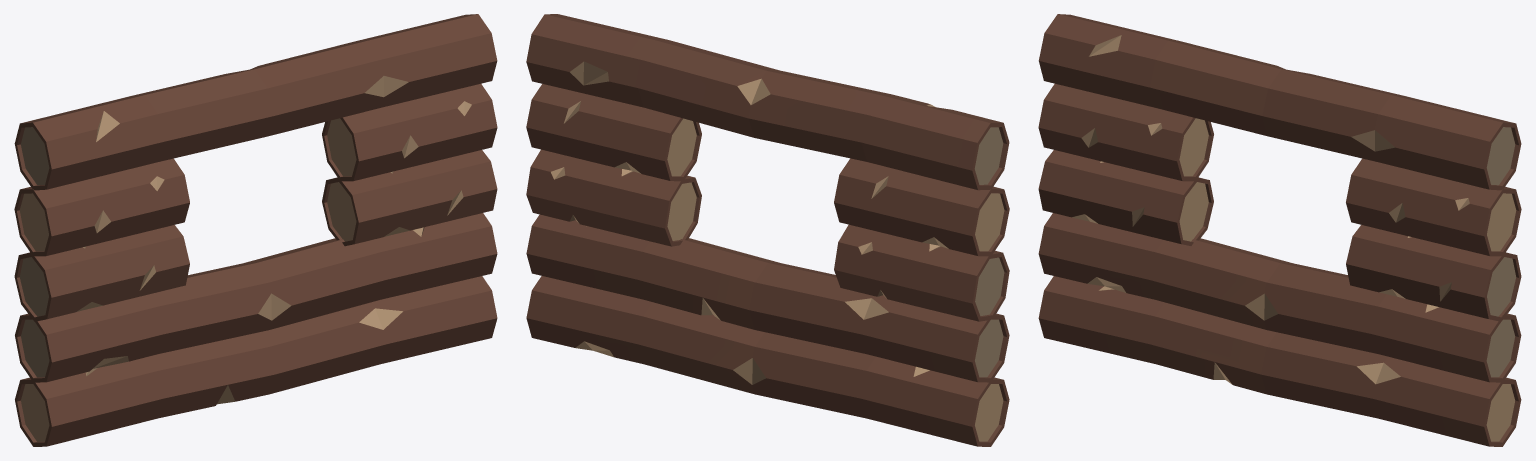
File: Log Window.fbx
3 views of the same model, side by side, from view 1: azimuth 30°, elevation 25°; view 2: azimuth 150°, elevation 25°; view 3: azimuth 330°, elevation 25° (orthographic).
Parts seen in each view (by area): view 1: Log Window Part 07, Log Window Part 02, Log Window Part 01, Log Window Part 04, Log Window Part 06, Log Window Part 03, Log Window Part 05; view 2: Log Window Part 07, Log Window Part 02, Log Window Part 01, Log Window Part 04, Log Window Part 06, Log Window Part 03, Log Window Part 05; view 3: Log Window Part 07, Log Window Part 02, Log Window Part 01, Log Window Part 06, Log Window Part 04, Log Window Part 05, Log Window Part 03.
Boxes of the visible parts, x1,y1,x2,y2 form: Log Window Part 07: (14,14,497,190); Log Window Part 02: (15,213,497,382); Log Window Part 01: (15,276,497,446); Log Window Part 04: (14,158,189,256); Log Window Part 06: (322,84,497,181); Log Window Part 03: (14,225,189,321); Log Window Part 05: (322,150,497,246); Log Window Part 07: (526,14,1009,190); Log Window Part 02: (526,214,1009,382); Log Window Part 01: (526,276,1009,446); Log Window Part 04: (834,158,1009,256); Log Window Part 06: (526,84,701,181); Log Window Part 03: (834,224,1009,321); Log Window Part 05: (526,149,701,246); Log Window Part 07: (1038,14,1521,190); Log Window Part 02: (1038,213,1521,382); Log Window Part 01: (1038,276,1521,446); Log Window Part 06: (1346,158,1521,256); Log Window Part 04: (1038,83,1213,181); Log Window Part 05: (1346,225,1521,321); Log Window Part 03: (1038,150,1213,245).
Bounding box in the file's own units: 2.77 × 1.94 × 0.4129.
